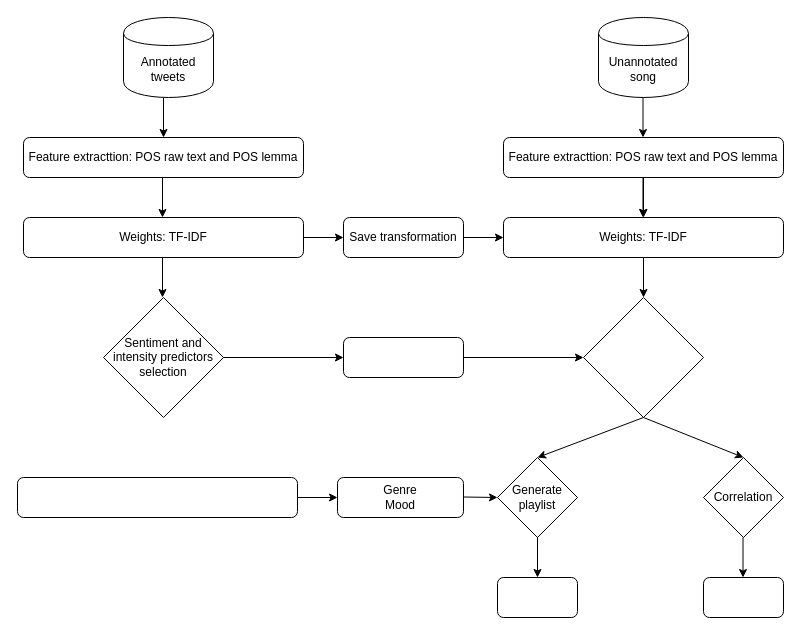
Image size: 809x635. Some labels were removed from this diagram. Here are the shapes that lost their labels. From the top down, the centre of each, then its label:
[403,357]: Save predictors
[643,357]: Predict
[157,497]: User
[537,597]: Playlist
[743,597]: Correlations
